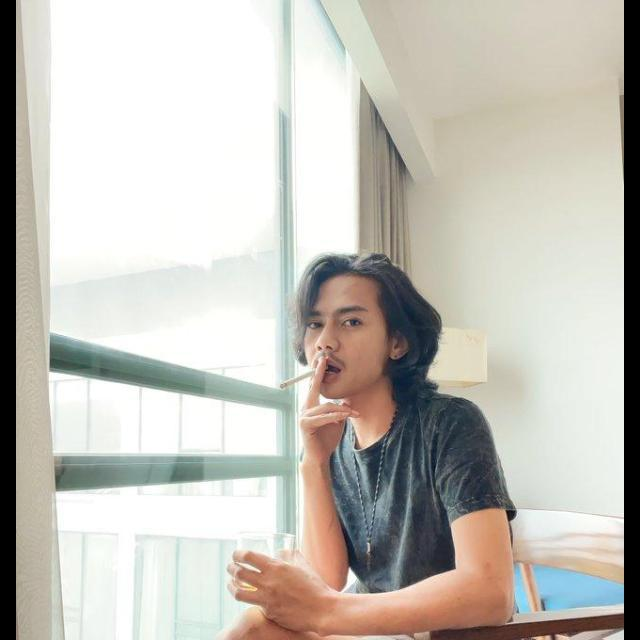rokok: (282, 359, 326, 391)
